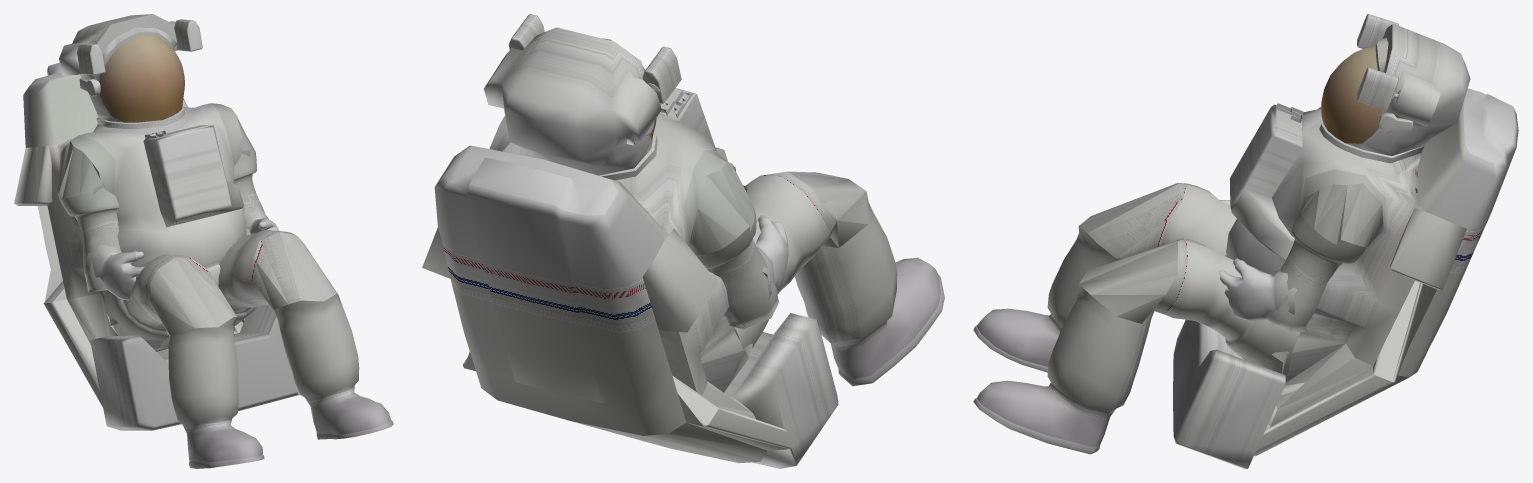
Rendered from astronaut-seated.glb.
The picture shows the model from 3 angles, left to right: view 1: azimuth 30°, elevation 25°; view 2: azimuth 150°, elevation 25°; view 3: azimuth 270°, elevation 25°; orthographic projection. The views are drawn at different scales.
Visible parts, largest first — view 1: astronaut1; view 2: astronaut1; view 3: astronaut1.
Part boxes in pixels (x1,y1,x2,y2): astronaut1: [14, 14, 393, 468]; astronaut1: [422, 14, 944, 468]; astronaut1: [973, 14, 1518, 468].
Bounding box in the file's own units: 0.7068 × 1.21 × 1.53.
2 materials, 2 textured.
